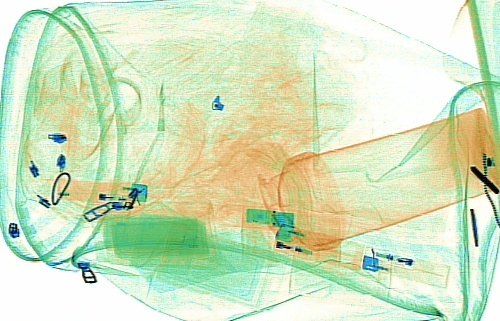lighter: (270, 221, 364, 271), (359, 244, 451, 288), (56, 178, 146, 208)
